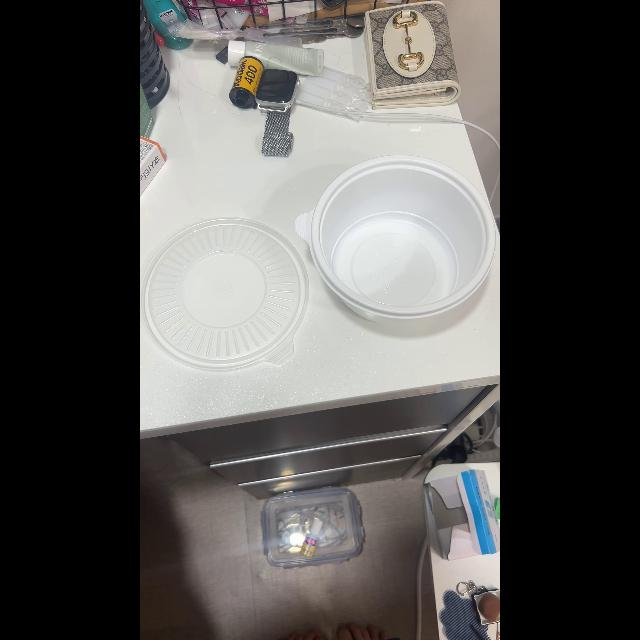clean: (313, 152, 497, 322), (147, 210, 307, 370)
